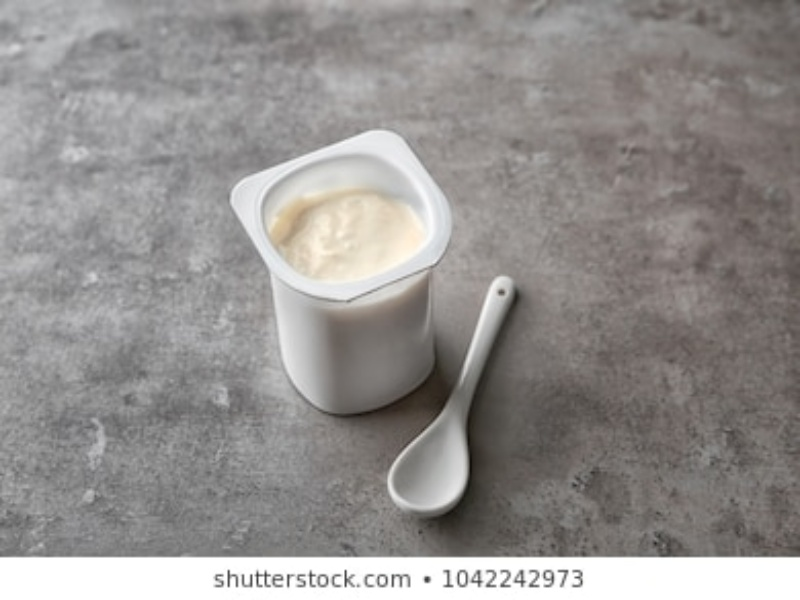plastic-silverware: (387, 274, 520, 518)
yogurt-cup: (220, 125, 465, 417)
